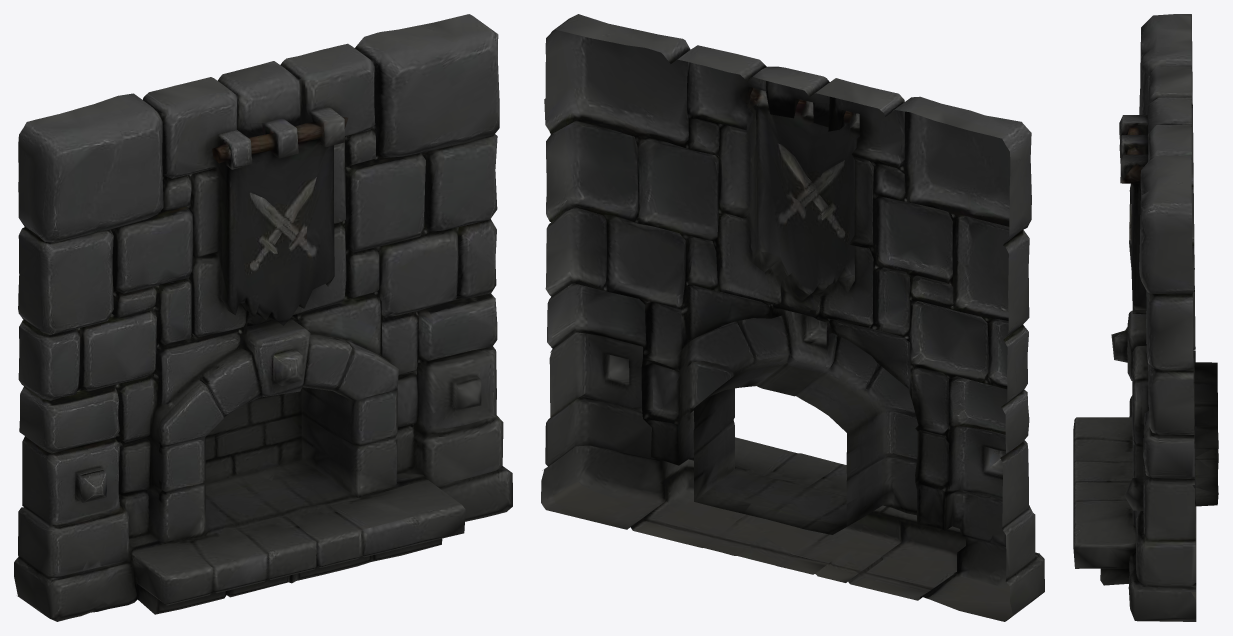
The model's file is Wall_Fireplace.fbx.
The picture shows the model from 3 angles, left to right: view 1: azimuth 30°, elevation 25°; view 2: azimuth 150°, elevation 25°; view 3: azimuth 270°, elevation 25°; orthographic projection. The views are drawn at different scales.
Visible parts, largest first — view 1: Wall_Fireplace; view 2: Wall_Fireplace; view 3: Wall_Fireplace.
Boxes of the visible parts, <box> form: Wall_Fireplace: <box>14,14,512,621</box>; Wall_Fireplace: <box>541,14,1044,621</box>; Wall_Fireplace: <box>1073,14,1218,621</box>.
Size of the model in its own units: 309 by 305 by 95.85.
